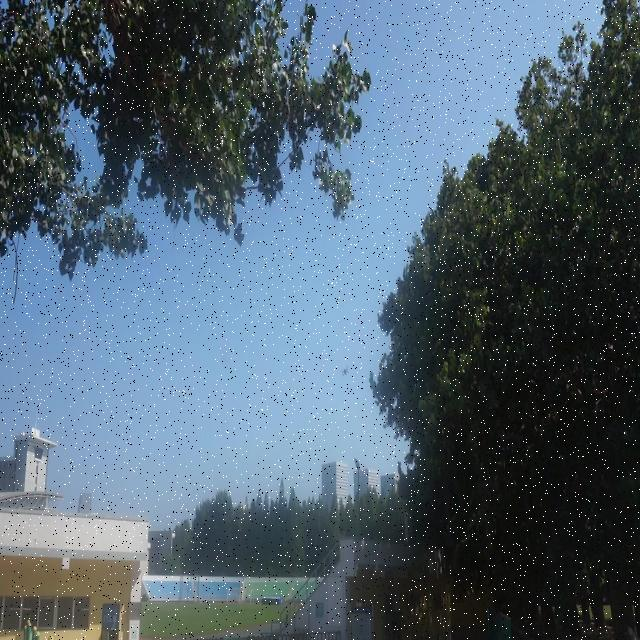UAV: (341, 367, 349, 376)
